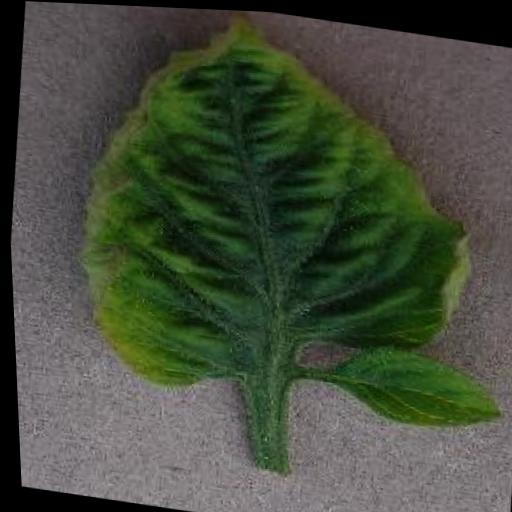Yellow Leaf Curl Virus: (59, 2, 512, 435)
